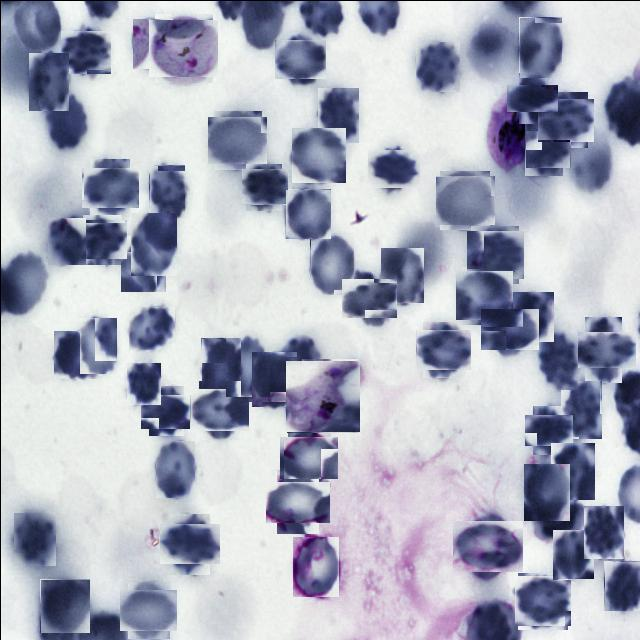difficult: (486, 89, 525, 170)
red blood cell: (457, 514, 518, 576), (290, 127, 345, 182), (456, 268, 511, 322), (438, 172, 492, 226), (130, 212, 176, 275), (210, 113, 264, 166), (271, 474, 324, 528), (516, 574, 568, 628), (292, 536, 338, 596), (309, 232, 353, 294), (468, 228, 520, 280), (576, 323, 628, 375), (39, 578, 89, 632), (225, 335, 269, 396), (200, 337, 240, 404), (523, 464, 569, 522), (518, 16, 561, 77), (120, 234, 166, 291), (283, 432, 334, 482), (550, 442, 594, 499), (164, 518, 214, 568), (540, 94, 590, 144), (194, 384, 244, 434), (248, 354, 298, 404), (123, 584, 173, 634), (484, 303, 534, 353), (560, 379, 602, 438), (84, 163, 134, 212), (380, 248, 423, 304), (316, 86, 358, 142), (12, 511, 55, 565), (154, 440, 194, 498), (28, 52, 68, 110), (418, 326, 466, 374), (538, 330, 577, 389), (284, 188, 330, 238), (44, 94, 86, 148), (53, 331, 101, 378), (345, 274, 392, 322), (415, 41, 459, 91), (78, 316, 116, 373), (62, 27, 108, 74), (583, 505, 623, 558), (370, 146, 416, 192), (520, 126, 566, 172), (131, 17, 172, 68), (277, 36, 323, 81), (552, 530, 593, 580), (512, 292, 553, 342), (80, 216, 124, 262), (128, 306, 174, 349), (148, 164, 184, 217), (603, 560, 640, 610), (144, 389, 187, 432), (242, 165, 284, 208), (47, 217, 85, 264), (528, 410, 568, 450), (512, 78, 552, 118), (126, 362, 160, 404)
ring: (151, 15, 215, 80)
trophozoite: (286, 358, 358, 432)
